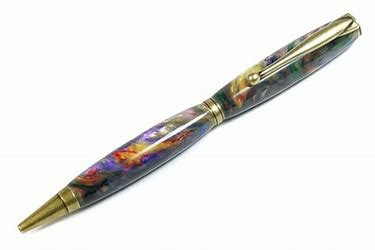pen: (17, 8, 361, 235)
